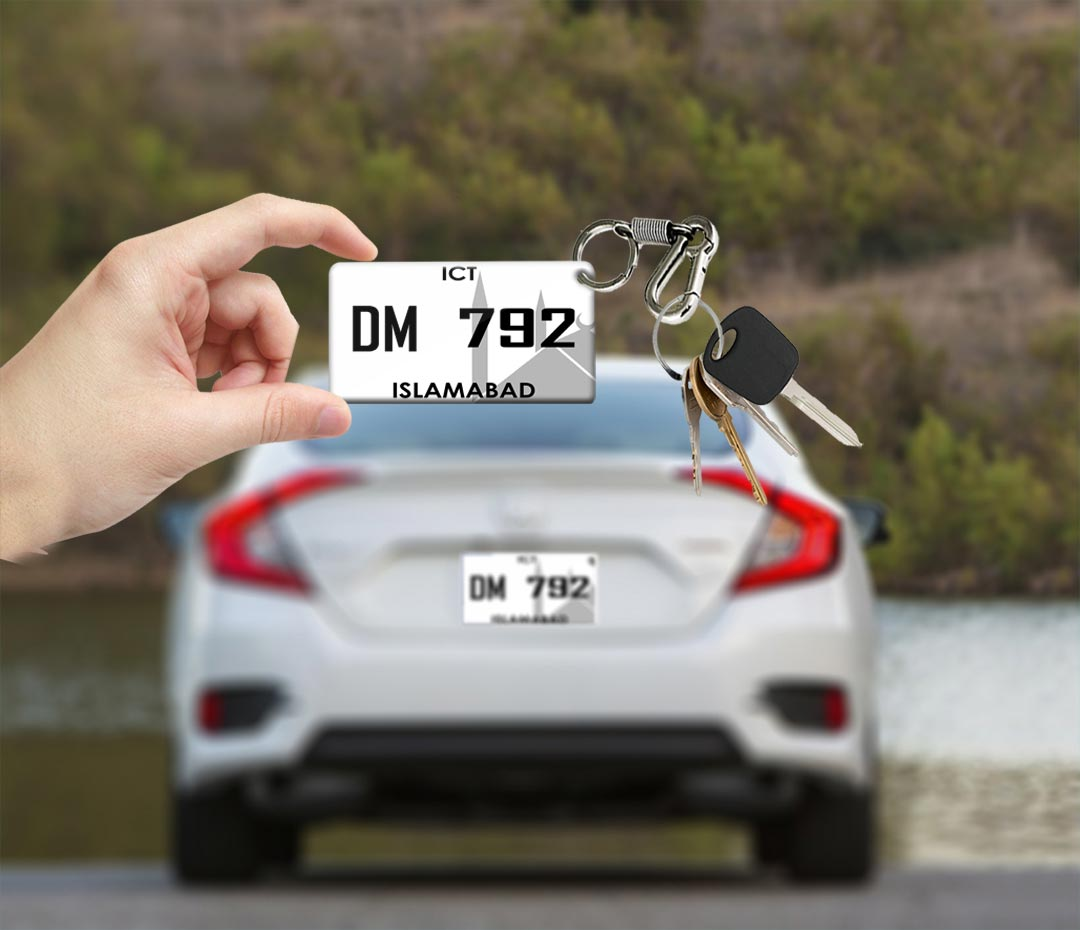plate: (323, 256, 601, 408), (457, 546, 608, 629)
